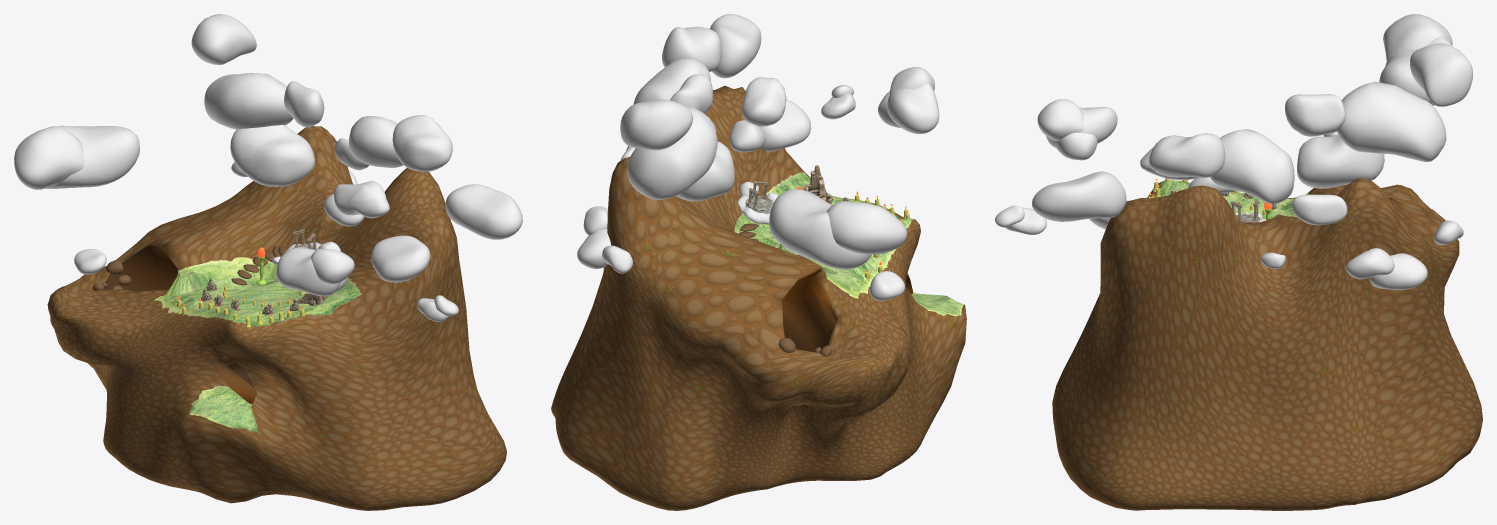
Rendered from x0x0_isla_imposible_.glb.
The picture shows the model from 3 angles, left to right: view 1: azimuth 30°, elevation 25°; view 2: azimuth 150°, elevation 25°; view 3: azimuth 270°, elevation 25°; orthographic projection. The views are drawn at different scales.
Parts seen in each view (by area): view 1: piedra.114, nubes isla imposible, pastito_base_plana4, roca.001; view 2: piedra.114, nubes isla imposible, pastito_base_plana4, AltarDJ, RocasGrandes; view 3: piedra.114, nubes isla imposible, pastito_base_plana4.
Boxes of the visible parts, box(x1,y1,x2,y2) form: piedra.114: box(47, 126, 506, 510); nubes isla imposible: box(14, 14, 522, 321); pastito_base_plana4: box(154, 257, 361, 431); roca.001: box(201, 278, 299, 315); piedra.114: box(551, 85, 966, 510); nubes isla imposible: box(577, 14, 939, 300); pastito_base_plana4: box(734, 172, 963, 316); AltarDJ: box(745, 181, 773, 214); RocasGrandes: box(801, 165, 833, 203); piedra.114: box(1052, 178, 1482, 510); nubes isla imposible: box(995, 14, 1472, 289); pastito_base_plana4: box(1154, 180, 1309, 219).
Bounding box in the file's own units: 197 × 193 × 214.
10 materials, 9 textured.
